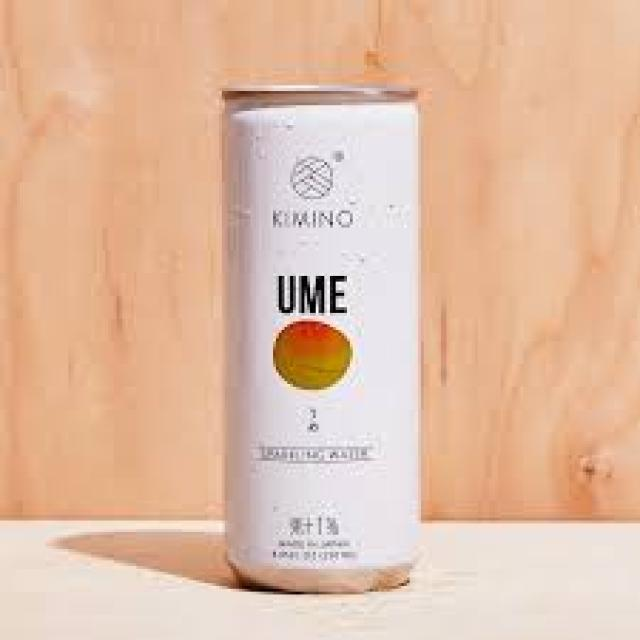Cans: (202, 68, 435, 600)
